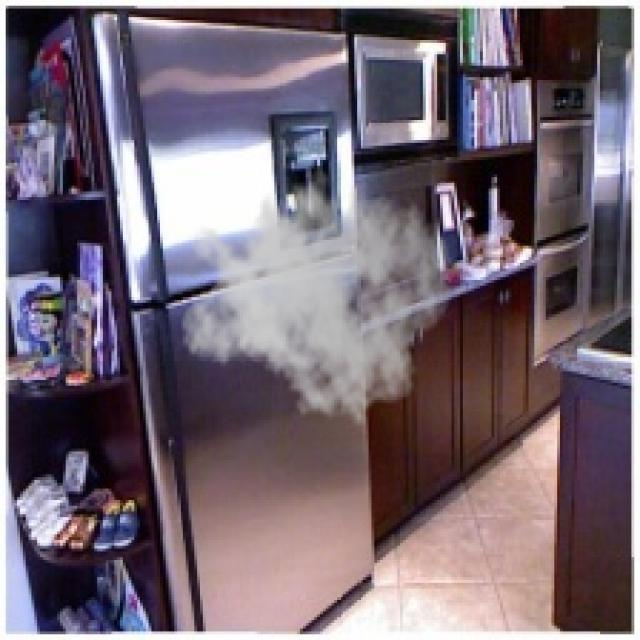Smoke: (177, 148, 454, 428)
